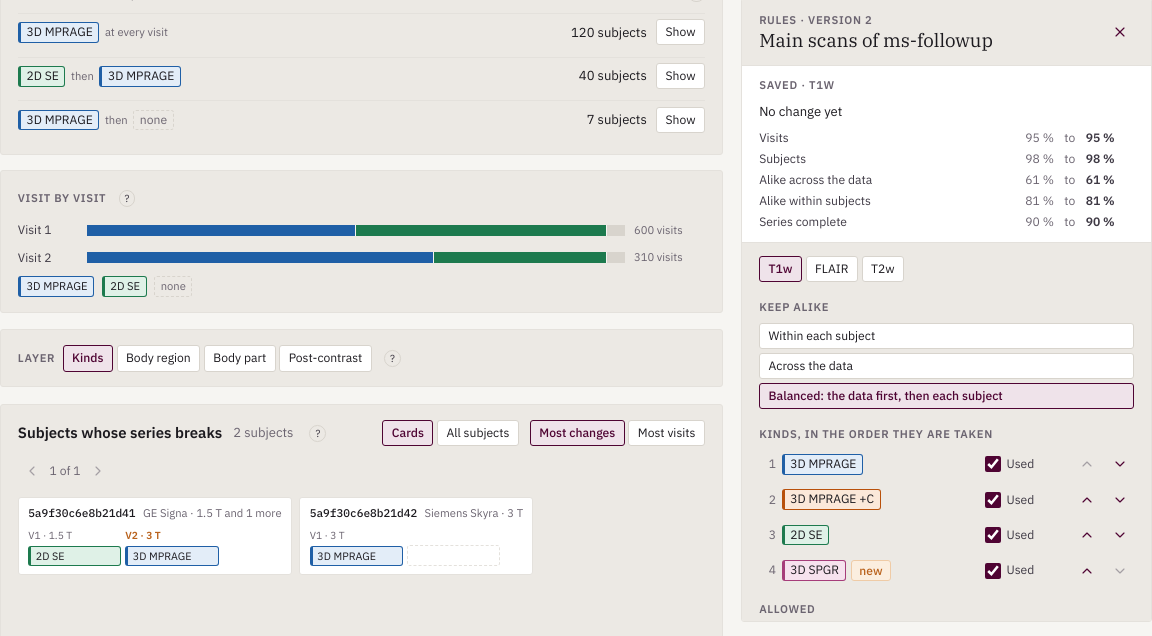
Test: Main scans' layers › stops asking for the step and says so where the engine refuses it
This screenshot has width=1152, height=636.
(page scrolled)
Click the button "Body region" at {"x": 158, "y": 358}, box [117, 345, 200, 372]
Wait 45000 ms
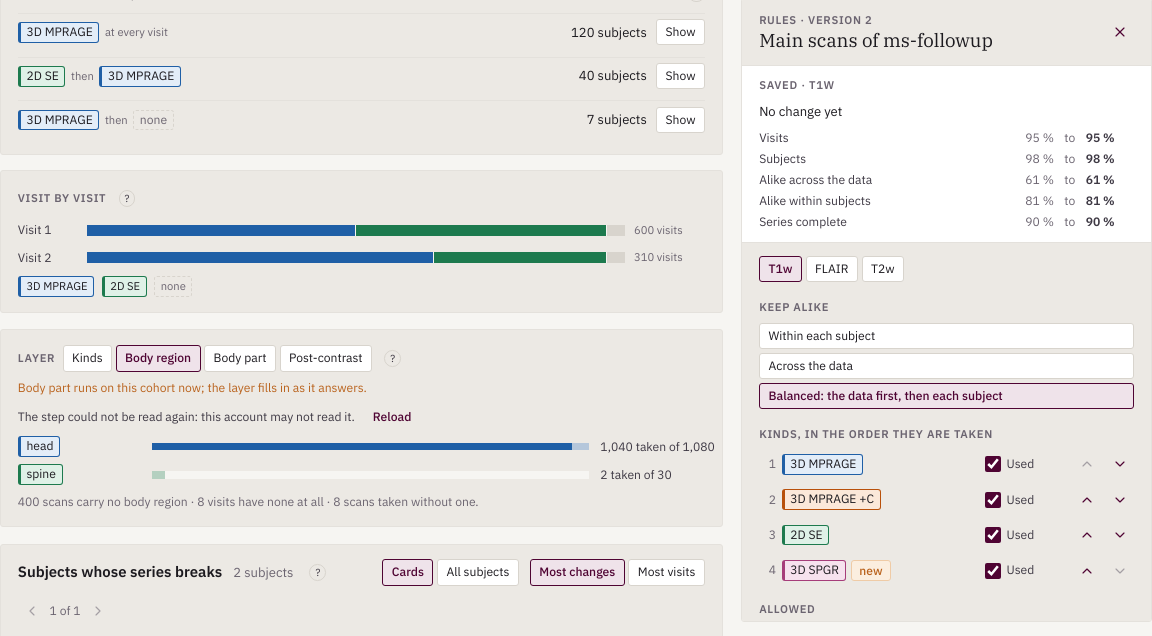
Expected: the element with class "ms-layer" shows "The step could not be read again: this account may not read it.", [18, 409, 355, 424]
Click the button "Reload" at {"x": 392, "y": 417}, box [362, 405, 422, 429]
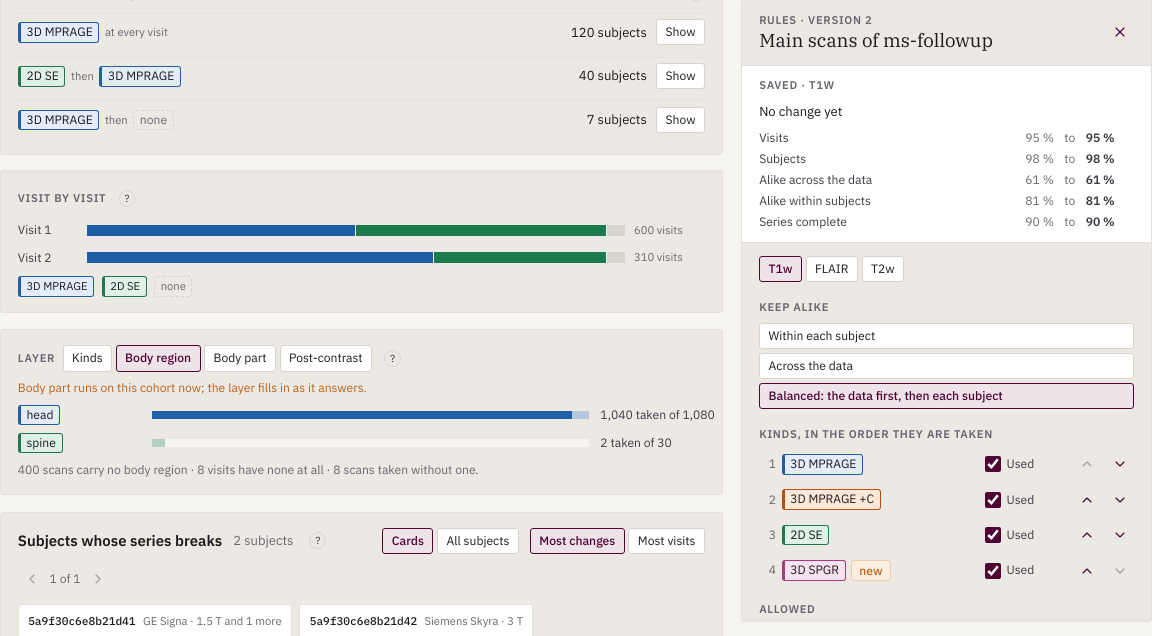
Expected: the text with class "ms-layer" no longer shows "could not be read again"
